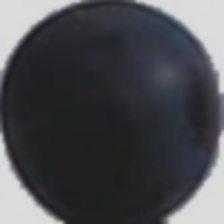grapes: (24, 30, 160, 196)
